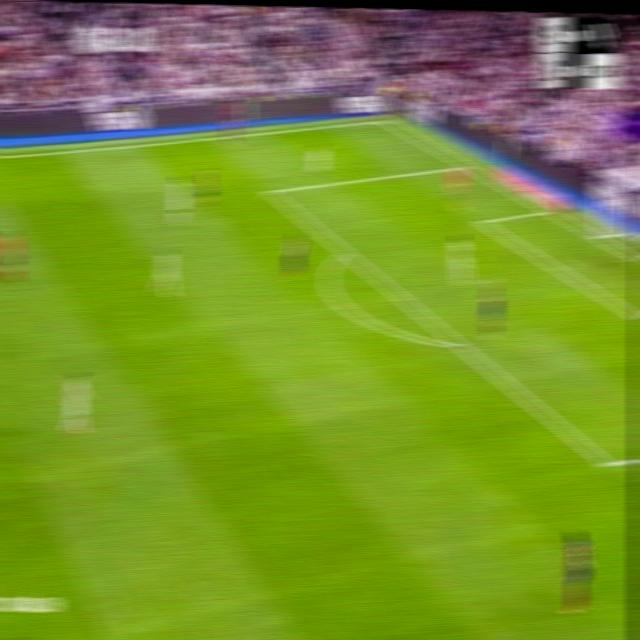bigarea_bottom_inner: (598, 449, 617, 478)
bigarea_top_inner: (264, 182, 279, 199)
bottom_arc_area_intersection: (449, 332, 467, 355)
corner: (377, 113, 394, 126)
smallarea_top_inner: (477, 216, 489, 228)
top_arc_area_intersection: (337, 242, 354, 261)
